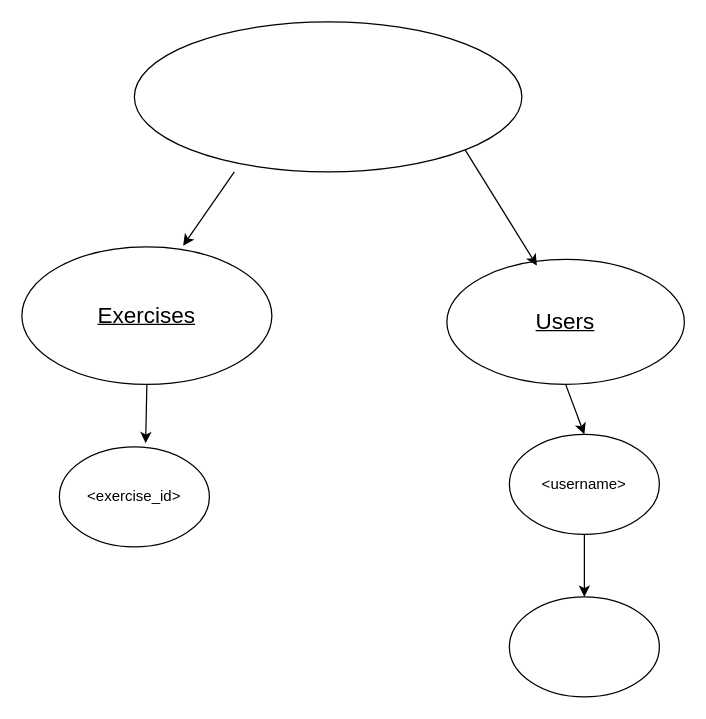
Some shapes in this 706 by 719 pixel diagram are drawn without their labels. The shapes that lost their labels are listed below. From the top down, each one's centre as x and y in pixels, then its label:
the point at 327,96: Exercisetracker
the point at 583,646: friends
